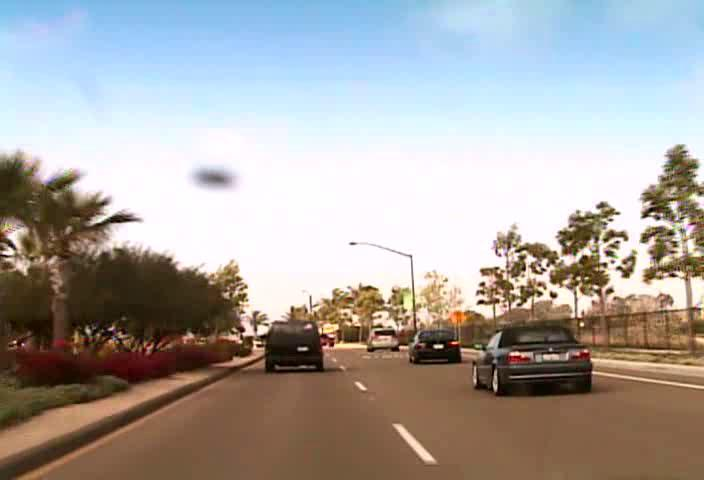signalAhead: (447, 308, 467, 326)
